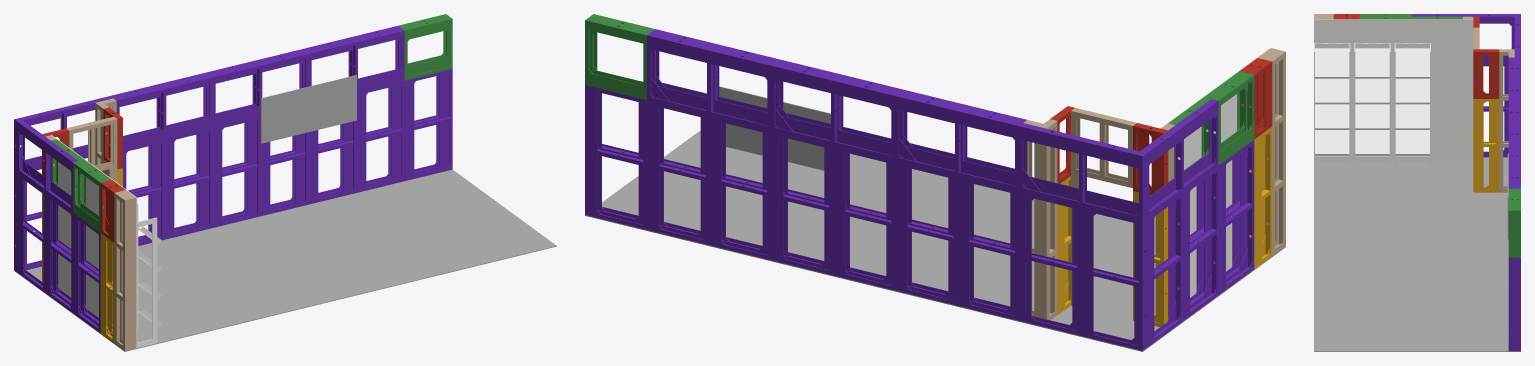
The picture shows the model from 3 angles, left to right: view 1: azimuth 30°, elevation 25°; view 2: azimuth 150°, elevation 25°; view 3: azimuth 270°, elevation 25°; orthographic projection. The views are drawn at different scales.
Visible parts, largest first — view 1: Пол 9000х4000х16, Body17 (×12), Body18 (×11), Закладная телевизора, Лист ЛДСП 2, Боковина 2 2000 мм (×2), Лист ЛДСП 1, Боковина 2, Body22, Лист ЛДСП 4, Body20; view 2: Body18 (×26), Пол 9000х4000х16, Body17 (×15), Body22 (×7), Закладная телевизора, Body19, Body23, Лист ЛДСП 4, Боковина 1 2000 мм, Стойка 1, Лист ЛДСП 3, Лист ЛДСП 1 (+4 smaller); view 3: Пол 9000х4000х16, Лист ЛДСП 1, Body16 (×10), Полка 1 (×3), Лист ЛДСП 4, Лист ЛДСП 3, Полка 2 (×3), Полка 3 (×3), Полка 4 (×3), Лист ЛДСП 2, Body22, Body23 (×3) (+14 smaller).
Boxes of the visible parts, left/top/right/bottom form: Пол 9000х4000х16: left=14, top=169, right=556, bottom=351; Body17 (×12): left=17, top=71, right=414, bottom=313; Body18 (×11): left=19, top=29, right=449, bottom=232; Закладная телевизора: left=260, top=75, right=356, bottom=143; Лист ЛДСП 2: left=86, top=225, right=137, bottom=348; Боковина 2 2000 мм (×2): left=125, top=248, right=135, bottom=350; Лист ЛДСП 1: left=58, top=205, right=71, bottom=297; Боковина 2: left=137, top=217, right=157, bottom=347; Body22: left=100, top=236, right=106, bottom=334; Лист ЛДСП 4: left=84, top=159, right=137, bottom=247; Body20: left=407, top=19, right=449, bottom=39; Body18 (×26): left=585, top=36, right=1247, bottom=334; Пол 9000х4000х16: left=585, top=130, right=1285, bottom=351; Body17 (×15): left=638, top=86, right=1225, bottom=343; Body22 (×7): left=650, top=97, right=1261, bottom=346; Закладная телевизора: left=719, top=86, right=830, bottom=170; Body19: left=588, top=73, right=643, bottom=98; Body23: left=1057, top=184, right=1064, bottom=311; Лист ЛДСП 4: left=1203, top=48, right=1270, bottom=142; Боковина 1 2000 мм: left=1040, top=200, right=1045, bottom=318; Стойка 1: left=1034, top=198, right=1039, bottom=315; Лист ЛДСП 3: left=1160, top=97, right=1203, bottom=169; Лист ЛДСП 1: left=1190, top=186, right=1196, bottom=297; Пол 9000х4000х16: left=1314, top=157, right=1520, bottom=351; Лист ЛДСП 1: left=1411, top=66, right=1473, bottom=160; Body16 (×10): left=1411, top=14, right=1520, bottom=351; Полка 1 (×3): left=1315, top=48, right=1429, bottom=75; Лист ЛДСП 4: left=1314, top=19, right=1411, bottom=66; Лист ЛДСП 3: left=1411, top=19, right=1473, bottom=66; Полка 2 (×3): left=1315, top=78, right=1429, bottom=101; Полка 3 (×3): left=1315, top=104, right=1429, bottom=127; Полка 4 (×3): left=1315, top=130, right=1429, bottom=153; Лист ЛДСП 2: left=1315, top=66, right=1410, bottom=160; Body22: left=1473, top=101, right=1483, bottom=189; Body23 (×3): left=1414, top=16, right=1515, bottom=347.
Bounding box in the file's own units: 9 × 3.02 × 4.
